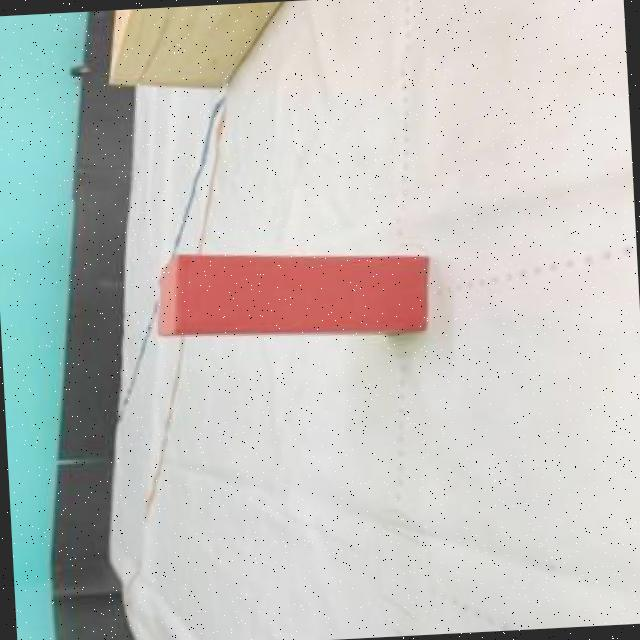redbox: (152, 242, 434, 348)
